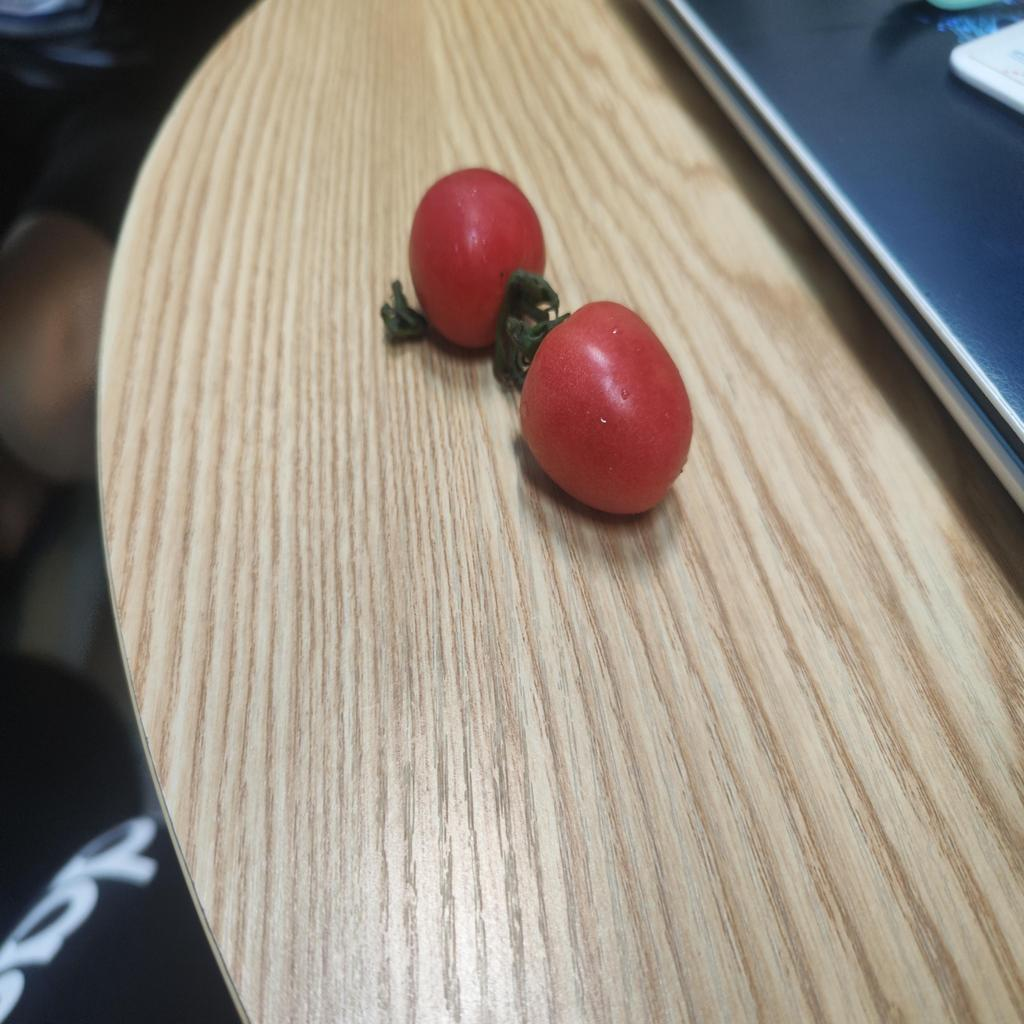tomato: (524, 311, 695, 522), (411, 162, 541, 346)
